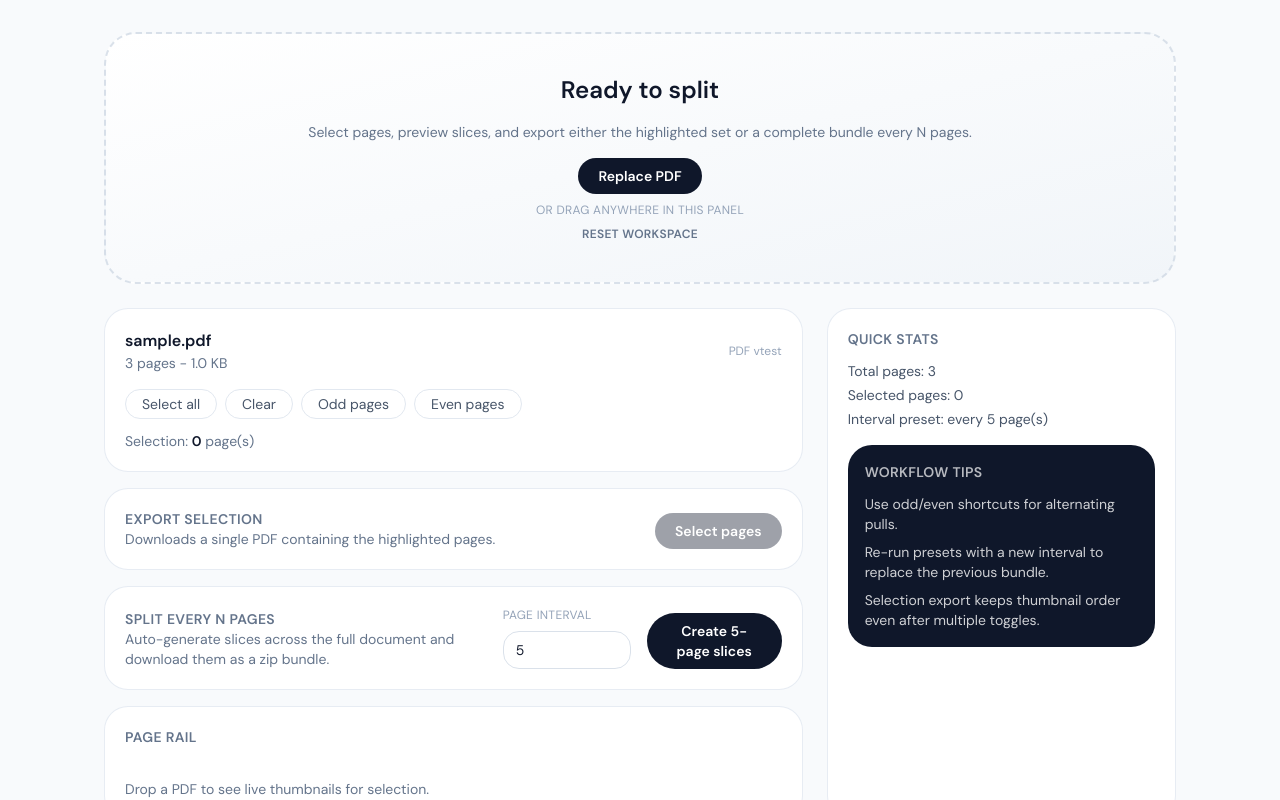
Scenario: SplitToolPage › Reset workspace while downloading a selection › disables Reset workspace and the file input while a selection download is in flight, and re-enables both when it finishes
Click the button "Select all": (171, 404) [125, 389, 217, 419]
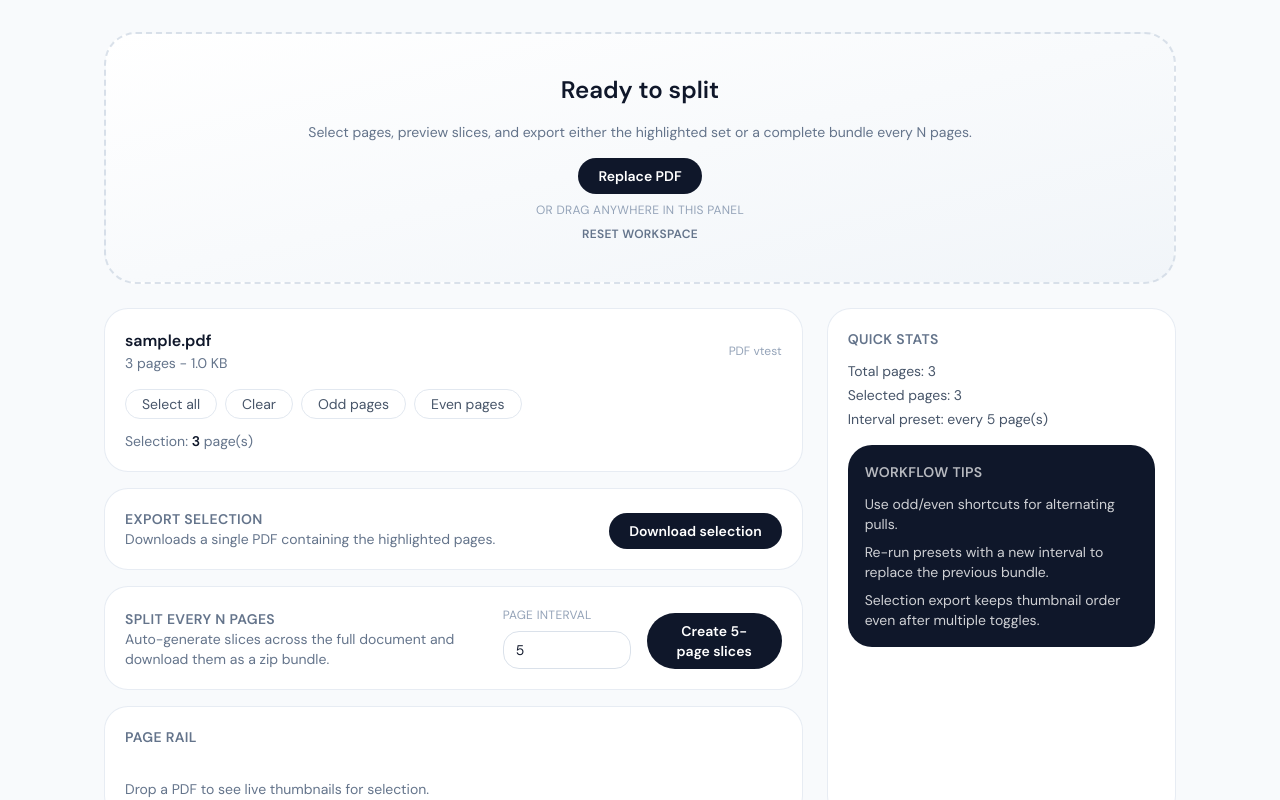
Click the button "Download selection": (695, 531) [609, 513, 782, 549]
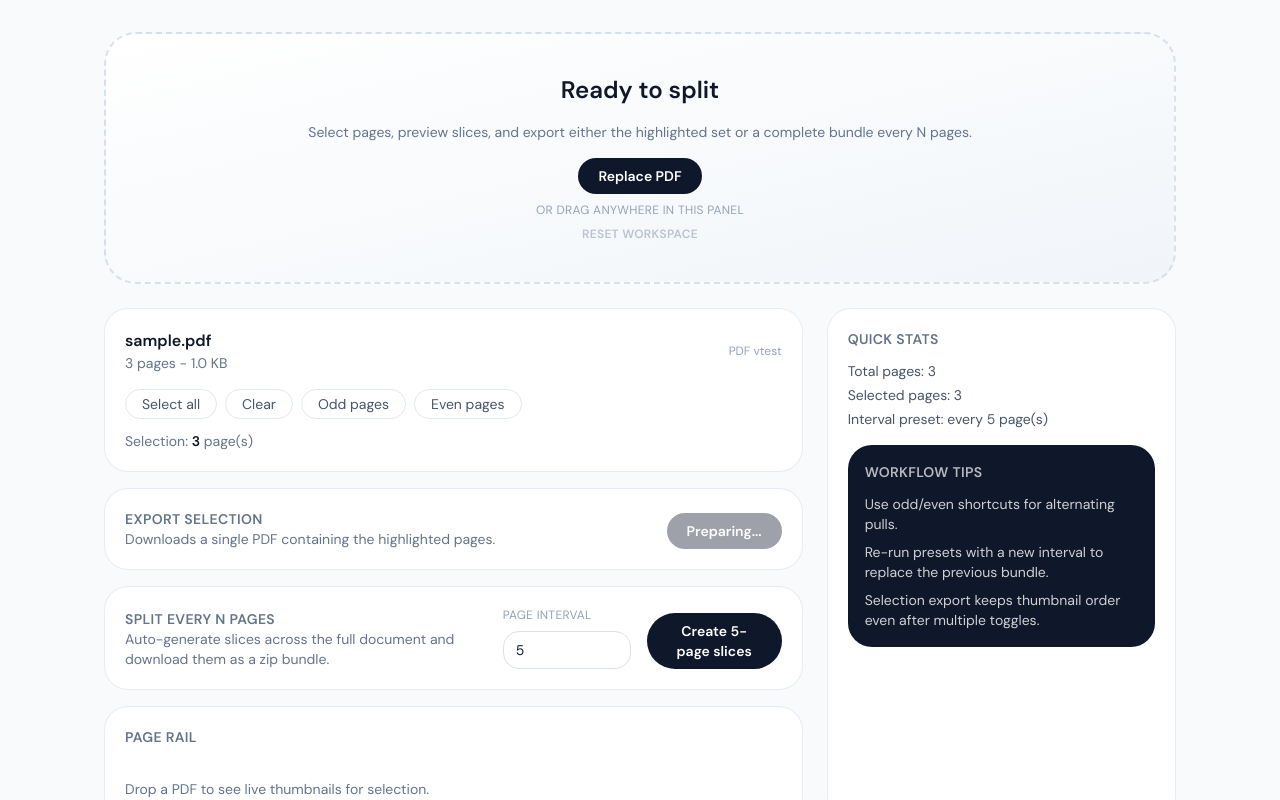
Expected: the file field with id "split-upload" is disabled, [578, 158, 702, 194]
Expected: the button "Reset workspace" is disabled
Click the button "Reset workspace": (640, 234) [582, 226, 698, 242]
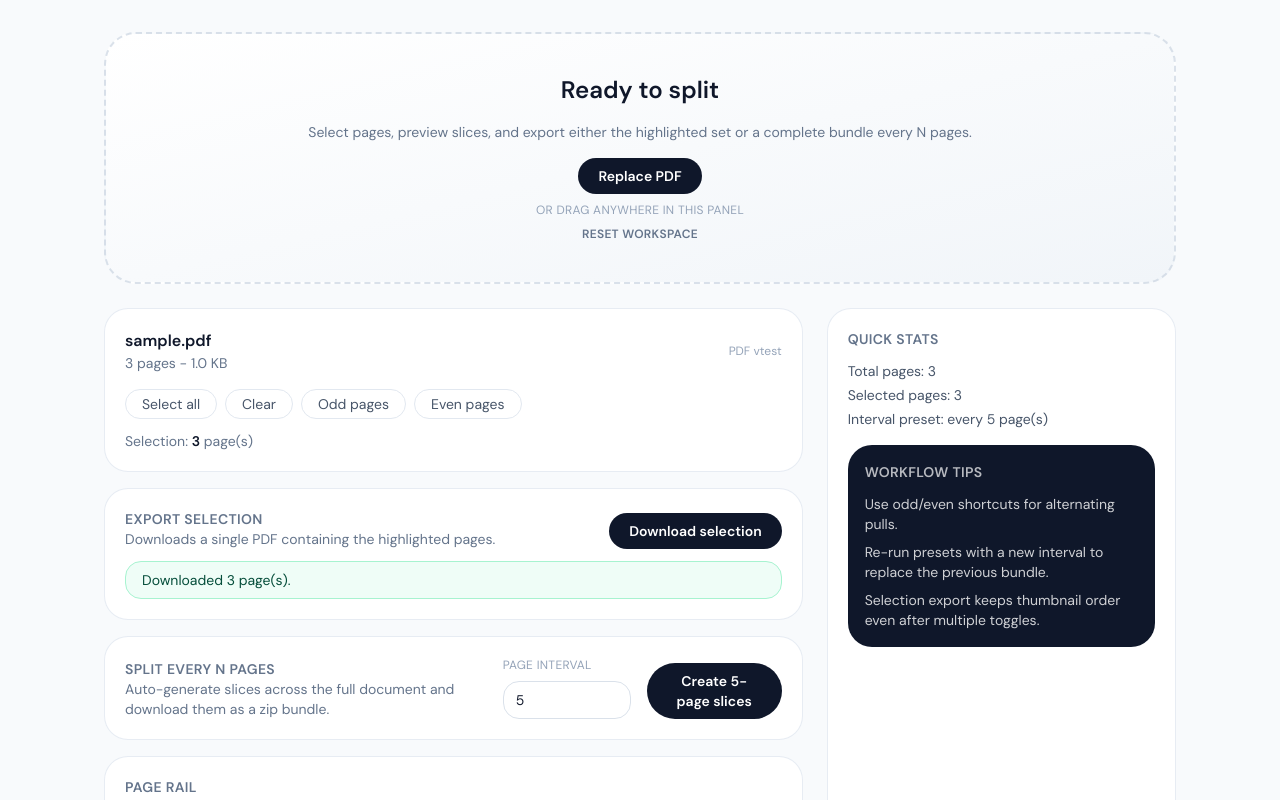
Expected: the file field with id "split-upload" is enabled, [578, 158, 702, 194]
Expected: the button "Reset workspace" is enabled, [582, 226, 698, 242]
